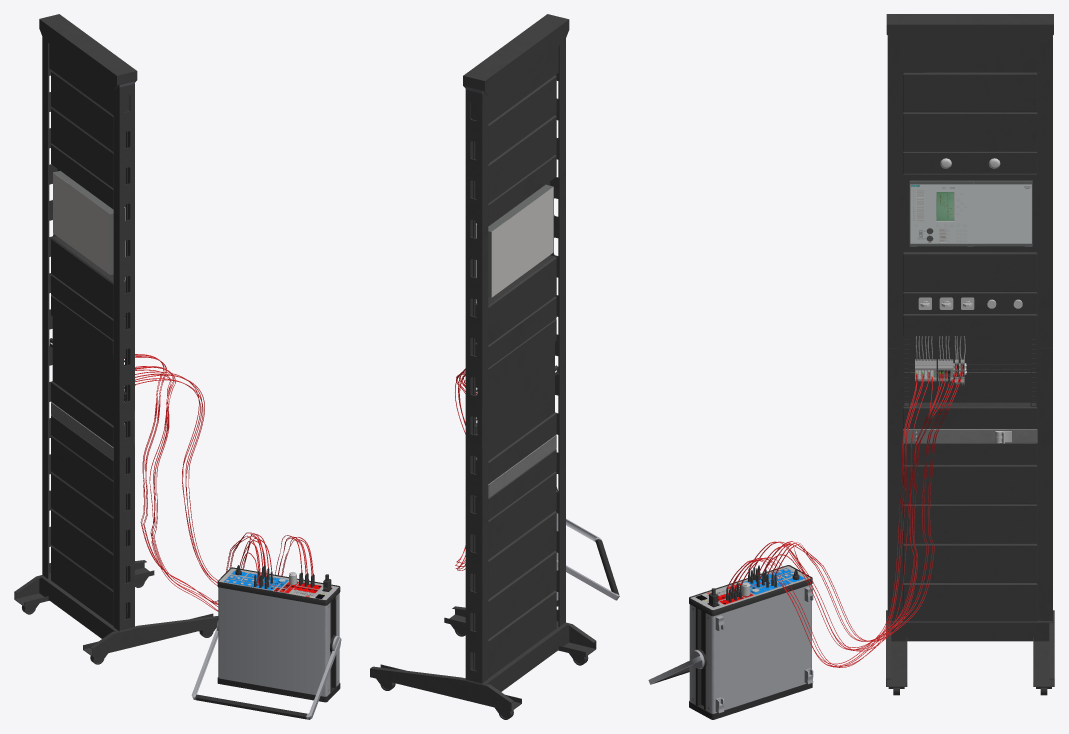
File: igrids2.fbx
3 views of the same model, side by side, from view 1: azimuth 30°, elevation 25°; view 2: azimuth 150°, elevation 25°; view 3: azimuth 270°, elevation 25° (orthographic). The views are drawn at different scales.
Parts seen in each view (by area): view 1: Cube.003, Plane.002, Cube.010, Cube, Plane.003, Cube.006, Cube.002, Cylinder.001, Cylinder.002, Circle.006, Cube.011, Plane.001; view 2: Cube.003, Plane.002, Cube, Plane.003, Cube.006, Cube.002, Circle.006, Plane.001; view 3: Cube.003, Plane.002, Cube.010, Plane.003, Cube, Cube.006, Plane.001, Cylinder.001, Cube.001, Cylinder.002, Cube.002, Cube.011 (+2 smaller).
Boxes of the visible parts, box(x1,y1,x2,y2) form: Cube.003: box(49, 44, 129, 625); Plane.002: box(42, 37, 134, 630); Cube.010: box(217, 567, 340, 702); Cube: box(39, 14, 137, 638); Plane.003: box(53, 171, 113, 274); Cube.006: box(52, 316, 113, 425); Cube.002: box(14, 560, 218, 664); Cylinder.001: box(124, 354, 271, 611); Cylinder.002: box(135, 371, 313, 585); Circle.006: box(191, 620, 341, 719); Cube.011: box(219, 568, 338, 599); Plane.001: box(124, 131, 127, 618); Cube.003: box(471, 46, 558, 677); Plane.002: box(465, 39, 565, 683); Cube: box(463, 14, 569, 691); Plane.003: box(488, 184, 553, 297); Cube.006: box(488, 342, 554, 460); Cube.002: box(370, 606, 596, 719); Circle.006: box(556, 519, 619, 600); Plane.001: box(473, 141, 477, 670); Cube.003: box(899, 43, 1040, 621); Plane.002: box(887, 37, 1052, 620); Cube.010: box(689, 565, 813, 719); Plane.003: box(909, 180, 1032, 246); Cube: box(886, 14, 1053, 641); Cube.006: box(904, 336, 1036, 402); Plane.001: box(899, 72, 1040, 620); Cylinder.001: box(749, 368, 963, 651); Cube.001: box(903, 173, 1036, 251); Cylinder.002: box(727, 377, 929, 667); Cube.002: box(886, 610, 1054, 695); Cube.011: box(690, 566, 810, 609).
Bounding box in the file's own units: 346 × 1153 × 672.
